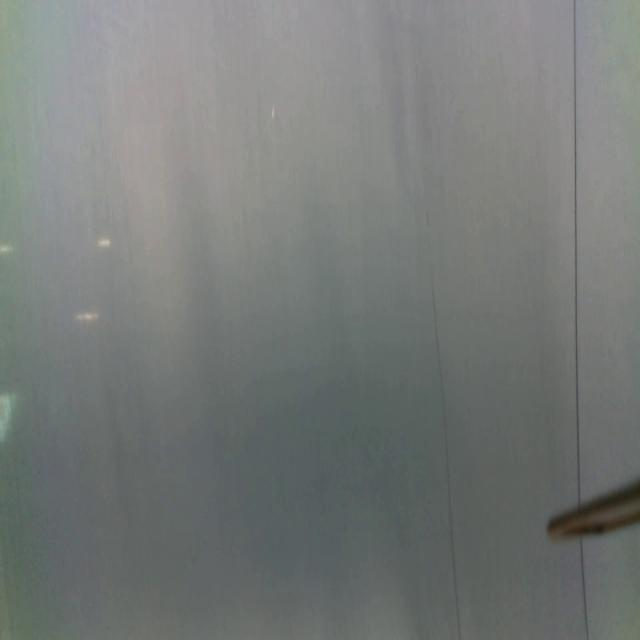crease: (425, 255, 462, 638), (570, 0, 584, 505), (579, 536, 591, 640)
hole: (270, 105, 276, 121)
